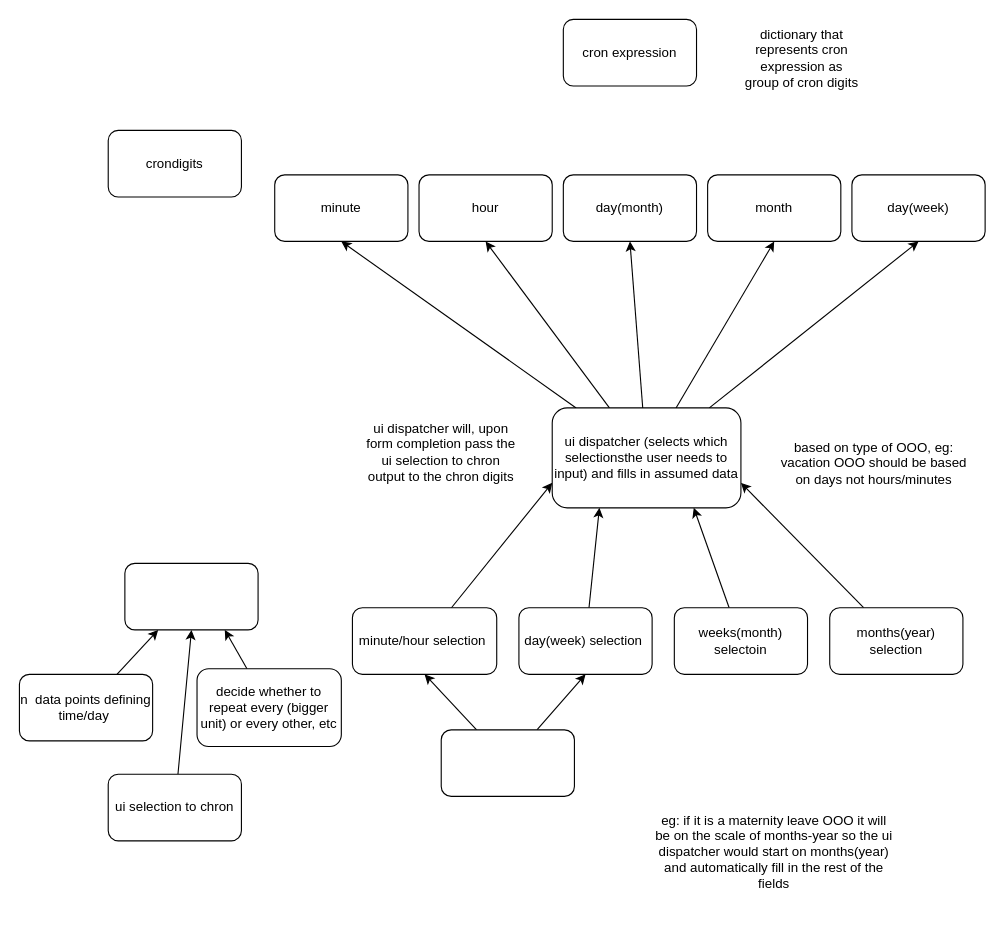
The diagram is 1005 pixels wide and 927 high, and some of its shapes have lost their labels. Here are the shapes that lost their labels. From the top down, the box of each, then its label:
(124, 562, 258, 630): selection class
(440, 729, 574, 796): day(wek) + minute/hour ui
